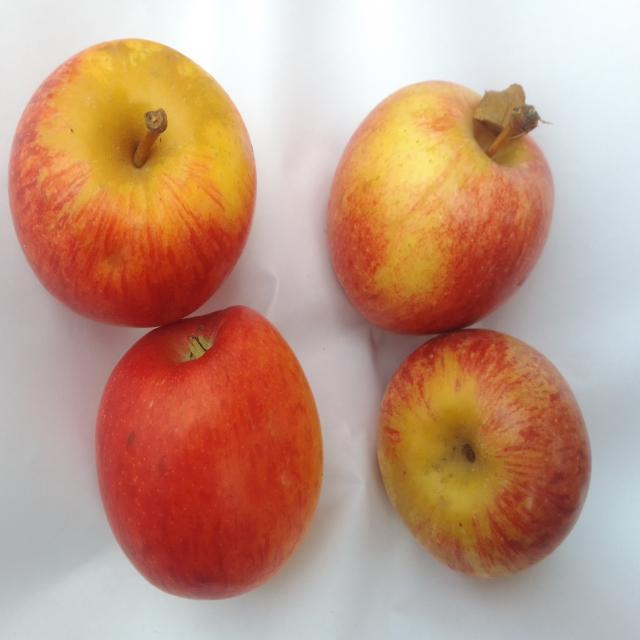Fresh Apple: (5, 35, 263, 333), (95, 300, 323, 603), (318, 73, 560, 340), (375, 322, 592, 578)
